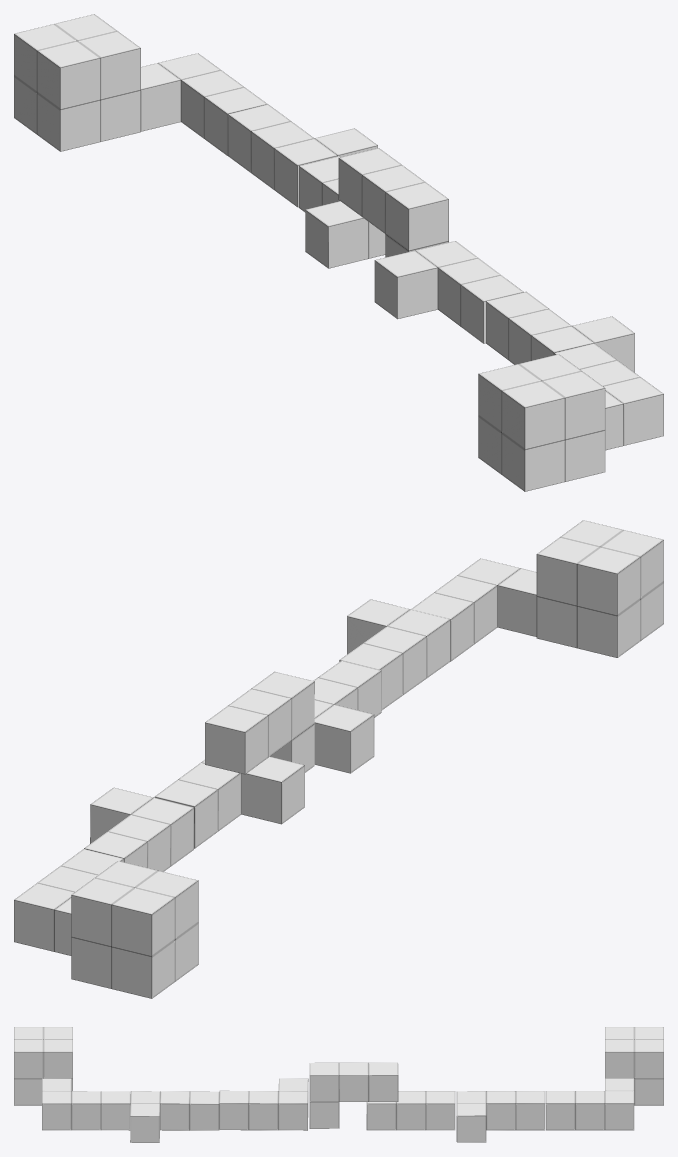
3 views of the same model, one above another, from view 1: azimuth 30°, elevation 25°; view 2: azimuth 150°, elevation 25°; view 3: azimuth 270°, elevation 25° (orthographic). The views are drawn at different scales.
Parts seen in each view (by area): view 1: Plane/BasicEnvironment/StartCube-1, Plane/BasicEnvironment/StartCube-2, GridLShape_0:4, GridLShape_0:6, GridLShape_0:1, GridLShape_0:3, GridLShape_0:2, GridLShape_0:5, GridLShape_0; view 2: Plane/BasicEnvironment/StartCube-1, Plane/BasicEnvironment/StartCube-2, GridLShape_0:6, GridLShape_0:2, GridLShape_0:5, GridLShape_0, GridLShape_0:3, GridLShape_0:4, GridLShape_0:1; view 3: GridLShape_0:6, GridLShape_0:4, GridLShape_0:3, GridLShape_0:2, GridLShape_0, GridLShape_0:1, Plane/BasicEnvironment/StartCube-2, Plane/BasicEnvironment/StartCube-1, GridLShape_0:5.
Part boxes in pixels (left/top/right/bottom): Plane/BasicEnvironment/StartCube-1: left=478, top=354, right=605, bottom=491; Plane/BasicEnvironment/StartCube-2: left=14, top=14, right=140, bottom=151; GridLShape_0:4: left=374, top=241, right=523, bottom=343; GridLShape_0:6: left=338, top=148, right=448, bottom=257; GridLShape_0:1: left=141, top=53, right=267, bottom=155; GridLShape_0:3: left=228, top=104, right=377, bottom=207; GridLShape_0:2: left=486, top=291, right=634, bottom=372; GridLShape_0:5: left=299, top=156, right=385, bottom=268; GridLShape_0: left=554, top=343, right=663, bottom=450; Plane/BasicEnvironment/StartCube-1: left=536, top=520, right=663, bottom=657; Plane/BasicEnvironment/StartCube-2: left=71, top=861, right=198, bottom=998; GridLShape_0:6: left=205, top=671, right=314, bottom=774; GridLShape_0:2: left=339, top=599, right=450, bottom=710; GridLShape_0:5: left=154, top=756, right=304, bottom=848; GridLShape_0: left=411, top=558, right=536, bottom=661; GridLShape_0:3: left=84, top=787, right=194, bottom=871; GridLShape_0:4: left=313, top=660, right=381, bottom=773; GridLShape_0:1: left=14, top=849, right=123, bottom=955; GridLShape_0:6: left=309, top=1062, right=398, bottom=1128; GridLShape_0:4: left=219, top=1078, right=308, bottom=1130; GridLShape_0:3: left=456, top=1091, right=545, bottom=1142; GridLShape_0:2: left=130, top=1091, right=219, bottom=1142; GridLShape_0: left=42, top=1078, right=130, bottom=1130; GridLShape_0:1: left=546, top=1078, right=634, bottom=1130; Plane/BasicEnvironment/StartCube-2: left=605, top=1027, right=663, bottom=1105; Plane/BasicEnvironment/StartCube-1: left=14, top=1027, right=72, bottom=1105; GridLShape_0:5: left=366, top=1091, right=455, bottom=1130.
Size of the model in its own units: 0.5021 by 0.2014 by 2.2.
